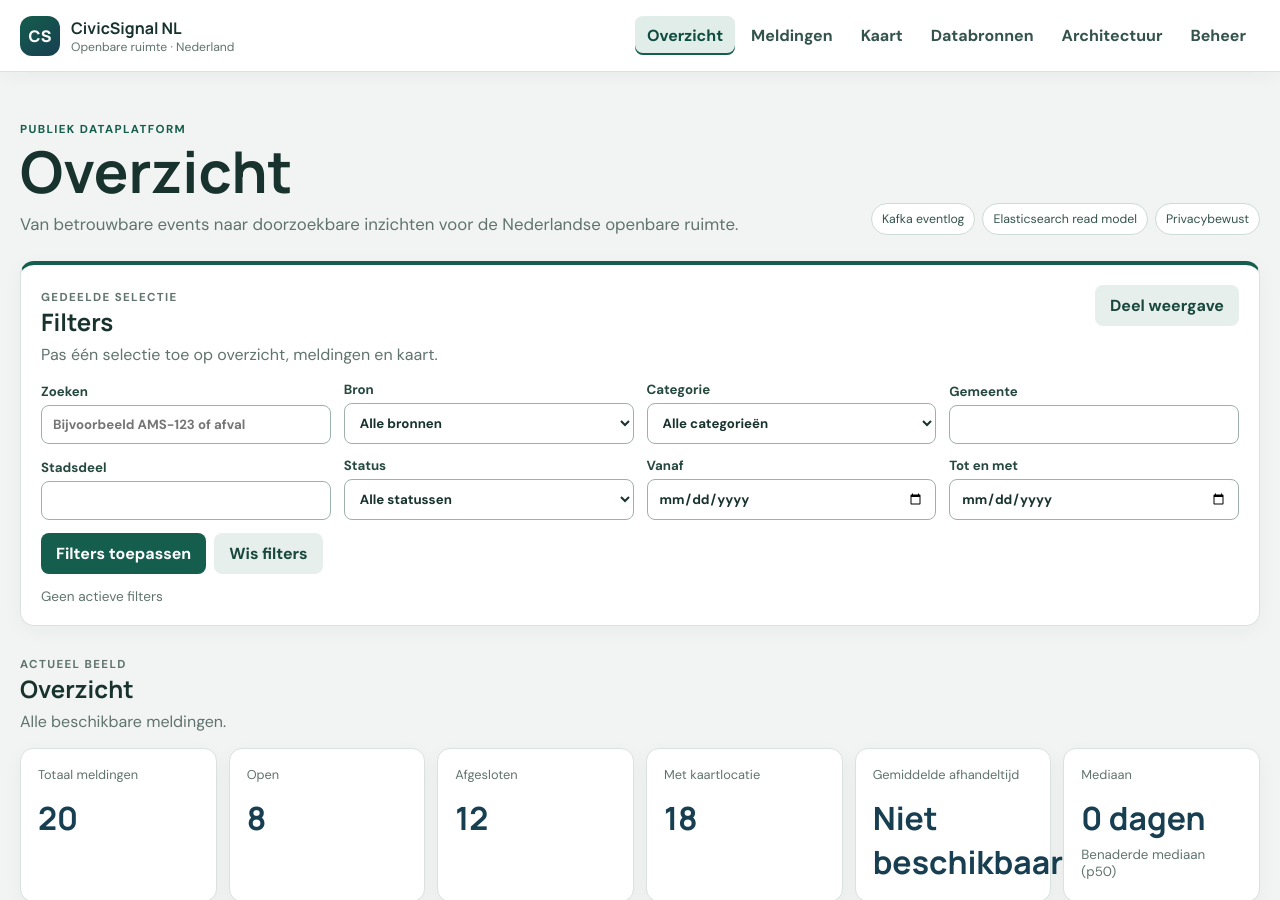
Test: dashboardstate en navigatie › valideert datumvolgorde zonder request
Expected: the text "20" is shown, [38,796,78,840]
Step 1. Type "2026-09-10" into the date field named "Datum vanaf" → (791, 499), box [646,479,936,520]
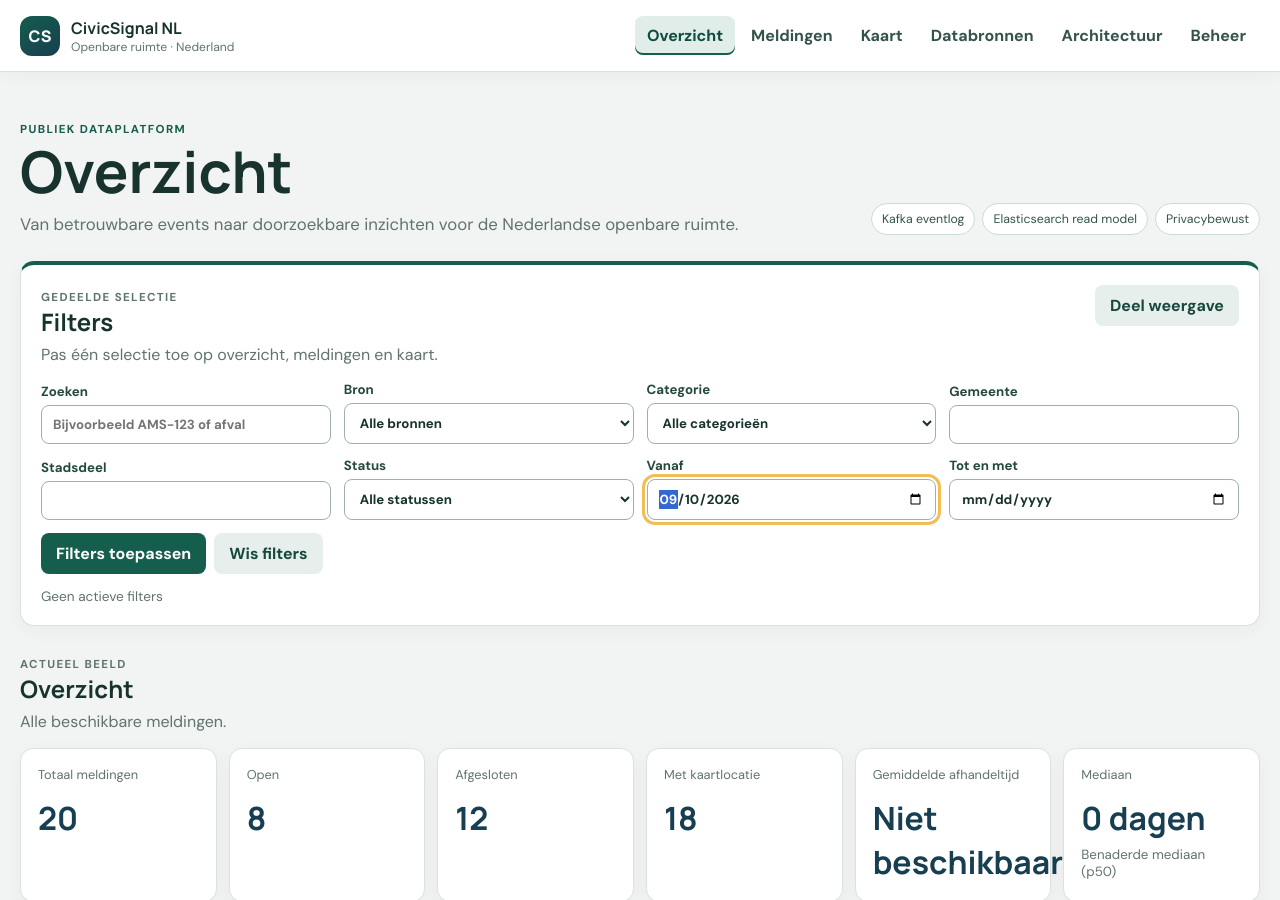
Step 2. Type "2026-09-01" into the date field named "Datum tot" → (1094, 499), box [949,479,1239,520]
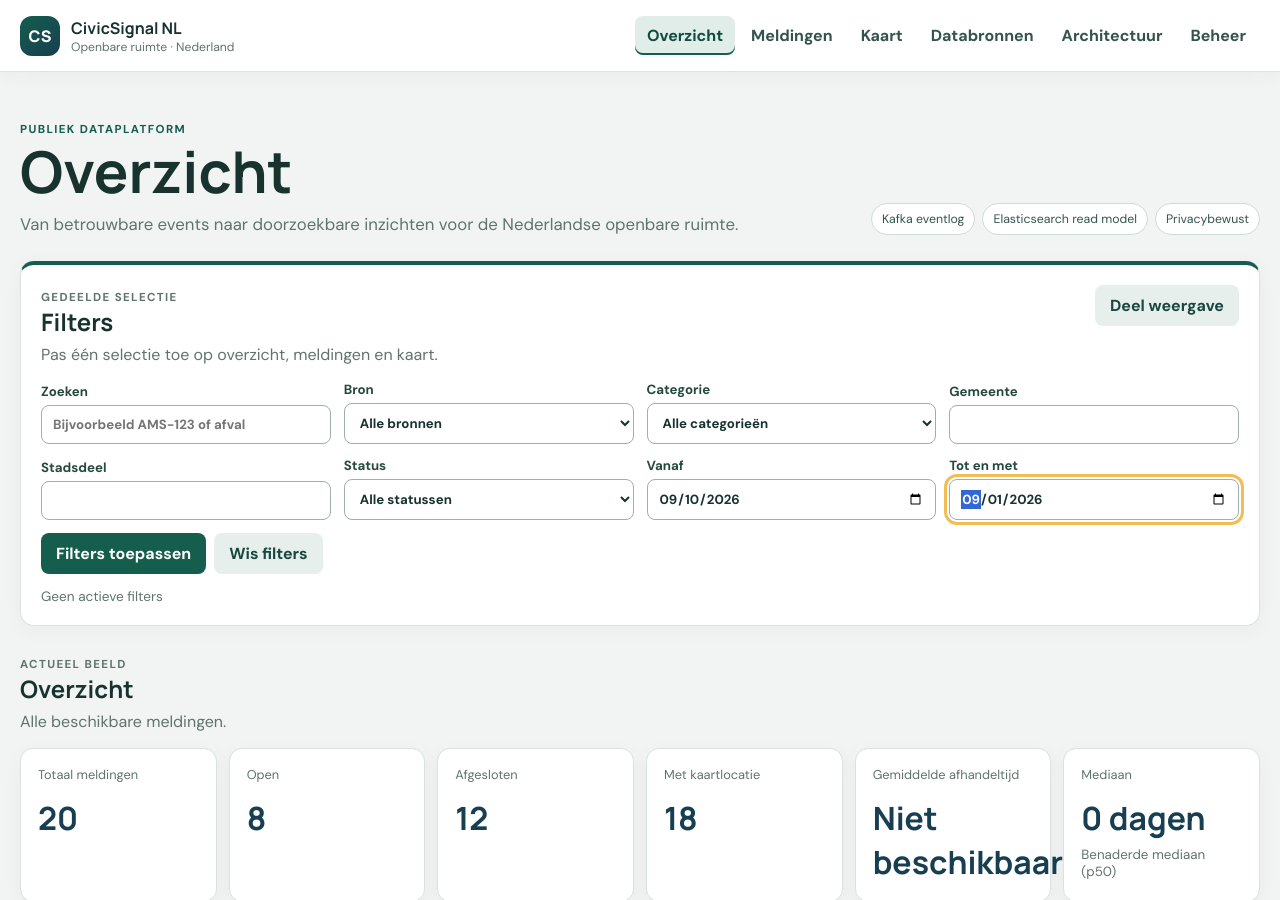
Step 3. Click the button "Filters toepassen" → (124, 553), box [41,533,206,574]
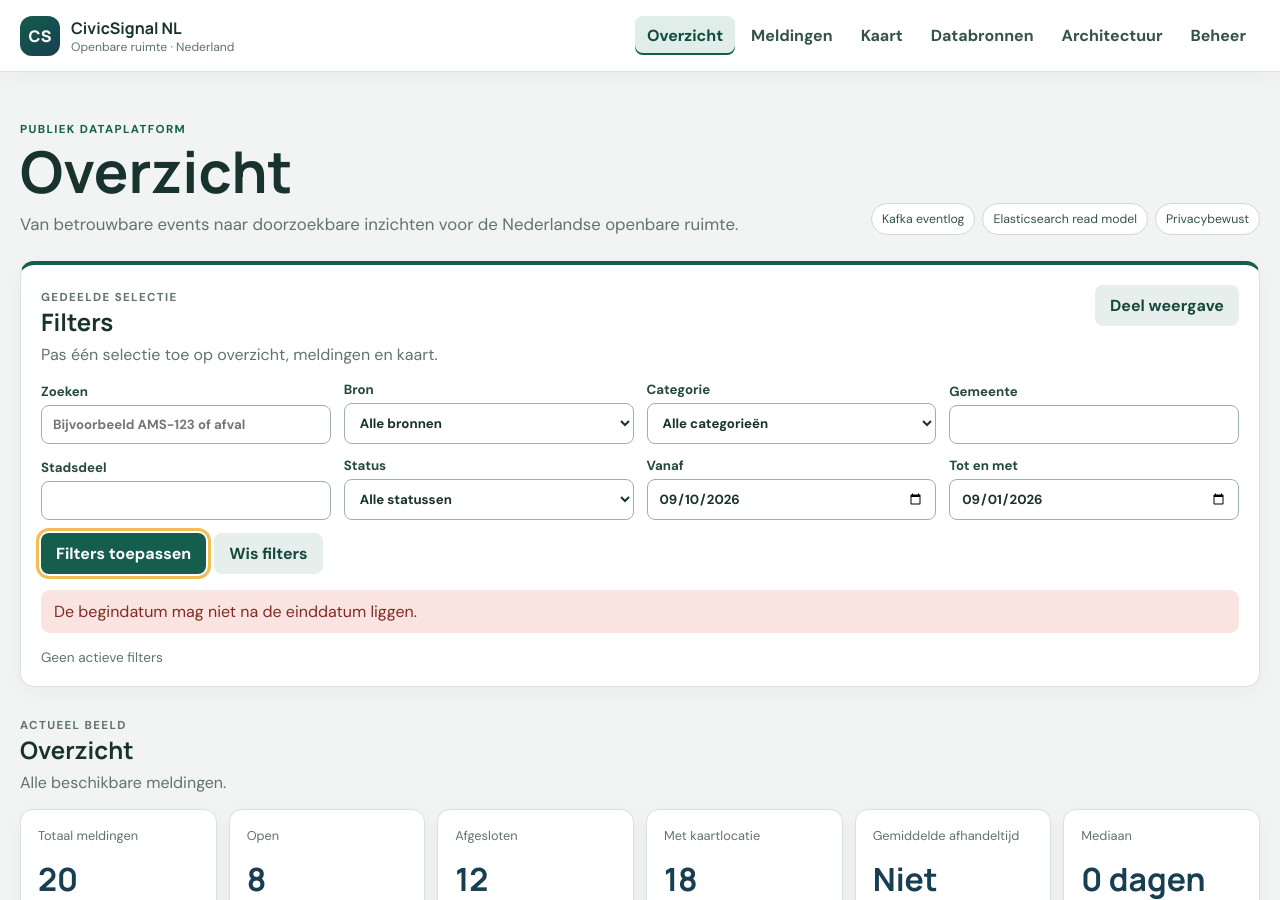
Now the message shows "begindatum", box [54,601,417,622]
